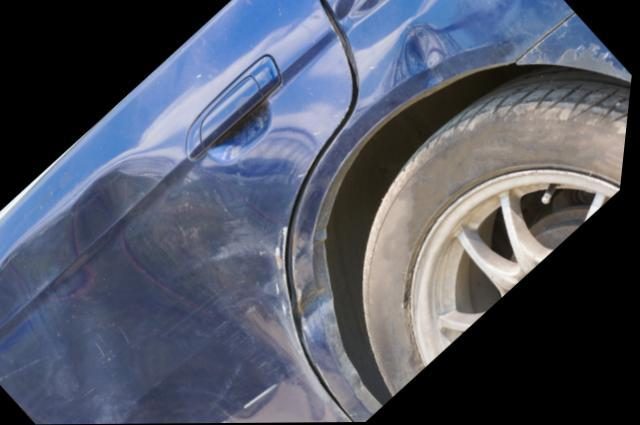dent: (0, 149, 349, 424), (330, 0, 451, 86)
